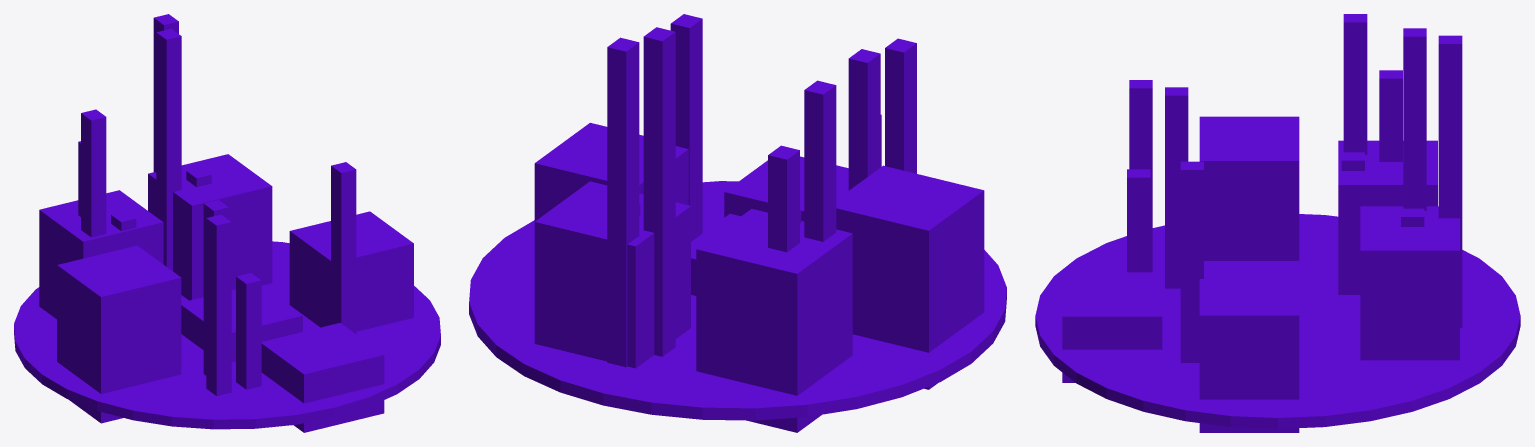
Rendered from DDOSVFX.gltf.
3 renders of one model, left to right at view 1: azimuth 30°, elevation 25°; view 2: azimuth 150°, elevation 25°; view 3: azimuth 270°, elevation 25°, orthographic. The views are drawn at different scales.
Visible parts, largest first — view 1: 立方体.006, 柱体, 立方体.001, 立方体, 立方体.005, 立方体.004, 立方体.003, 立方体.002; view 2: 立方体.006, 柱体, 立方体.003, 立方体.001, 立方体.005, 立方体, 立方体.004, 立方体.002; view 3: 柱体, 立方体.006, 立方体.005, 立方体.001, 立方体, 立方体.004, 立方体.003, 立方体.002.
Part boxes in pixels (box(x1,y1,x2,y2)): 立方体.006: box(78, 14, 356, 395); 柱体: box(14, 241, 440, 429); 立方体.001: box(57, 245, 181, 423); 立方体: box(289, 211, 413, 331); 立方体.005: box(148, 154, 272, 300); 立方体.004: box(261, 322, 384, 432); 立方体.003: box(39, 190, 163, 318); 立方体.002: box(181, 286, 302, 361); 立方体.006: box(607, 14, 916, 367); 柱体: box(469, 181, 1006, 420); 立方体.003: box(696, 208, 852, 432); 立方体.001: box(836, 165, 984, 389); 立方体.005: box(534, 181, 690, 368); 立方体: box(534, 122, 688, 221); 立方体.004: box(724, 156, 848, 221); 立方体.002: box(691, 213, 740, 295); 柱体: box(1035, 214, 1520, 428); 立方体.006: box(1127, 14, 1462, 362); 立方体.005: box(1360, 206, 1459, 360); 立方体.001: box(1199, 116, 1299, 260); 立方体: box(1199, 271, 1299, 432); 立方体.004: box(1062, 272, 1162, 382); 立方体.003: box(1338, 140, 1437, 294); 立方体.002: box(1204, 261, 1299, 270).
Size of the model in its own units: 2.3 by 1.66 by 2.3.
